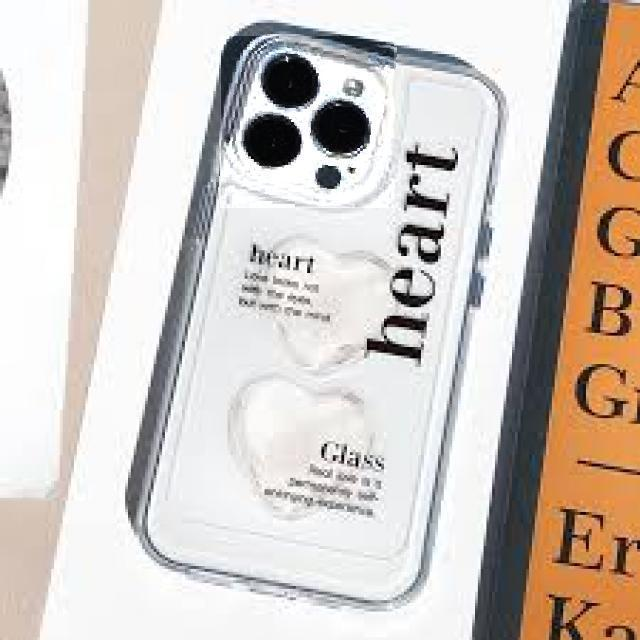phone: (133, 25, 509, 597)
